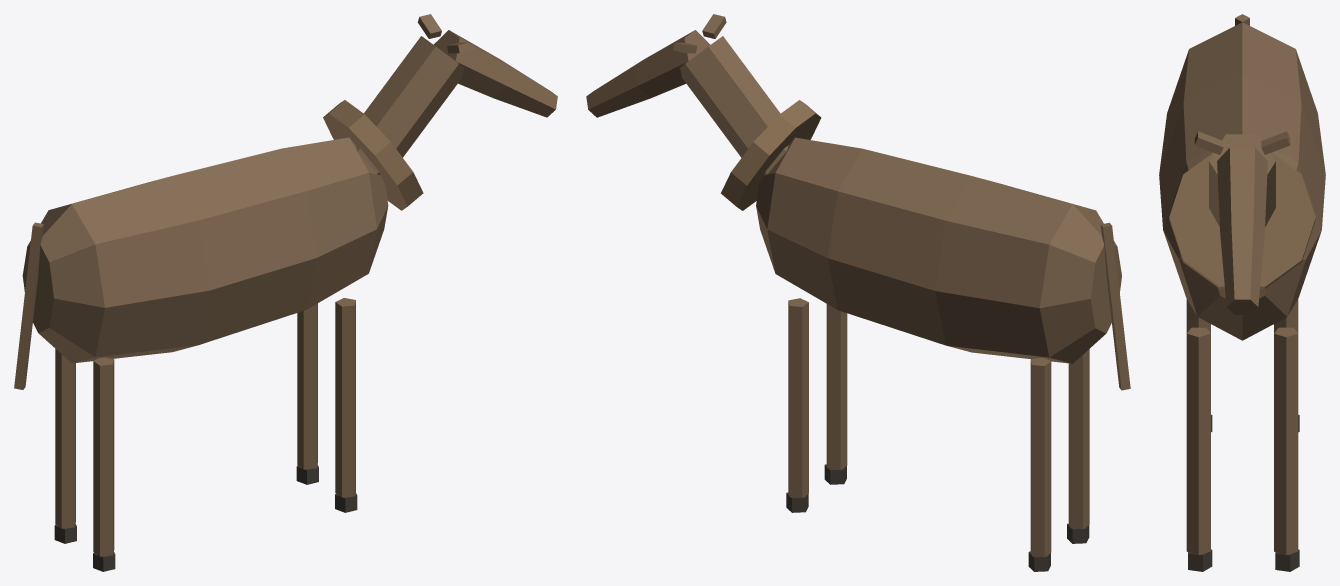
Rendered from horse.glb.
The picture shows the model from 3 angles, left to right: view 1: azimuth 30°, elevation 25°; view 2: azimuth 150°, elevation 25°; view 3: azimuth 270°, elevation 25°; orthographic projection. The views are drawn at different scales.
Visible parts, largest first — view 1: horse; view 2: horse; view 3: horse.
Boxes of the visible parts, box(x1,y1,x2,y2) form: horse: box(14, 14, 557, 571); horse: box(586, 14, 1130, 571); horse: box(1159, 14, 1325, 571).
Bounding box in the file's own units: 2.33 × 1.8 × 0.546.
